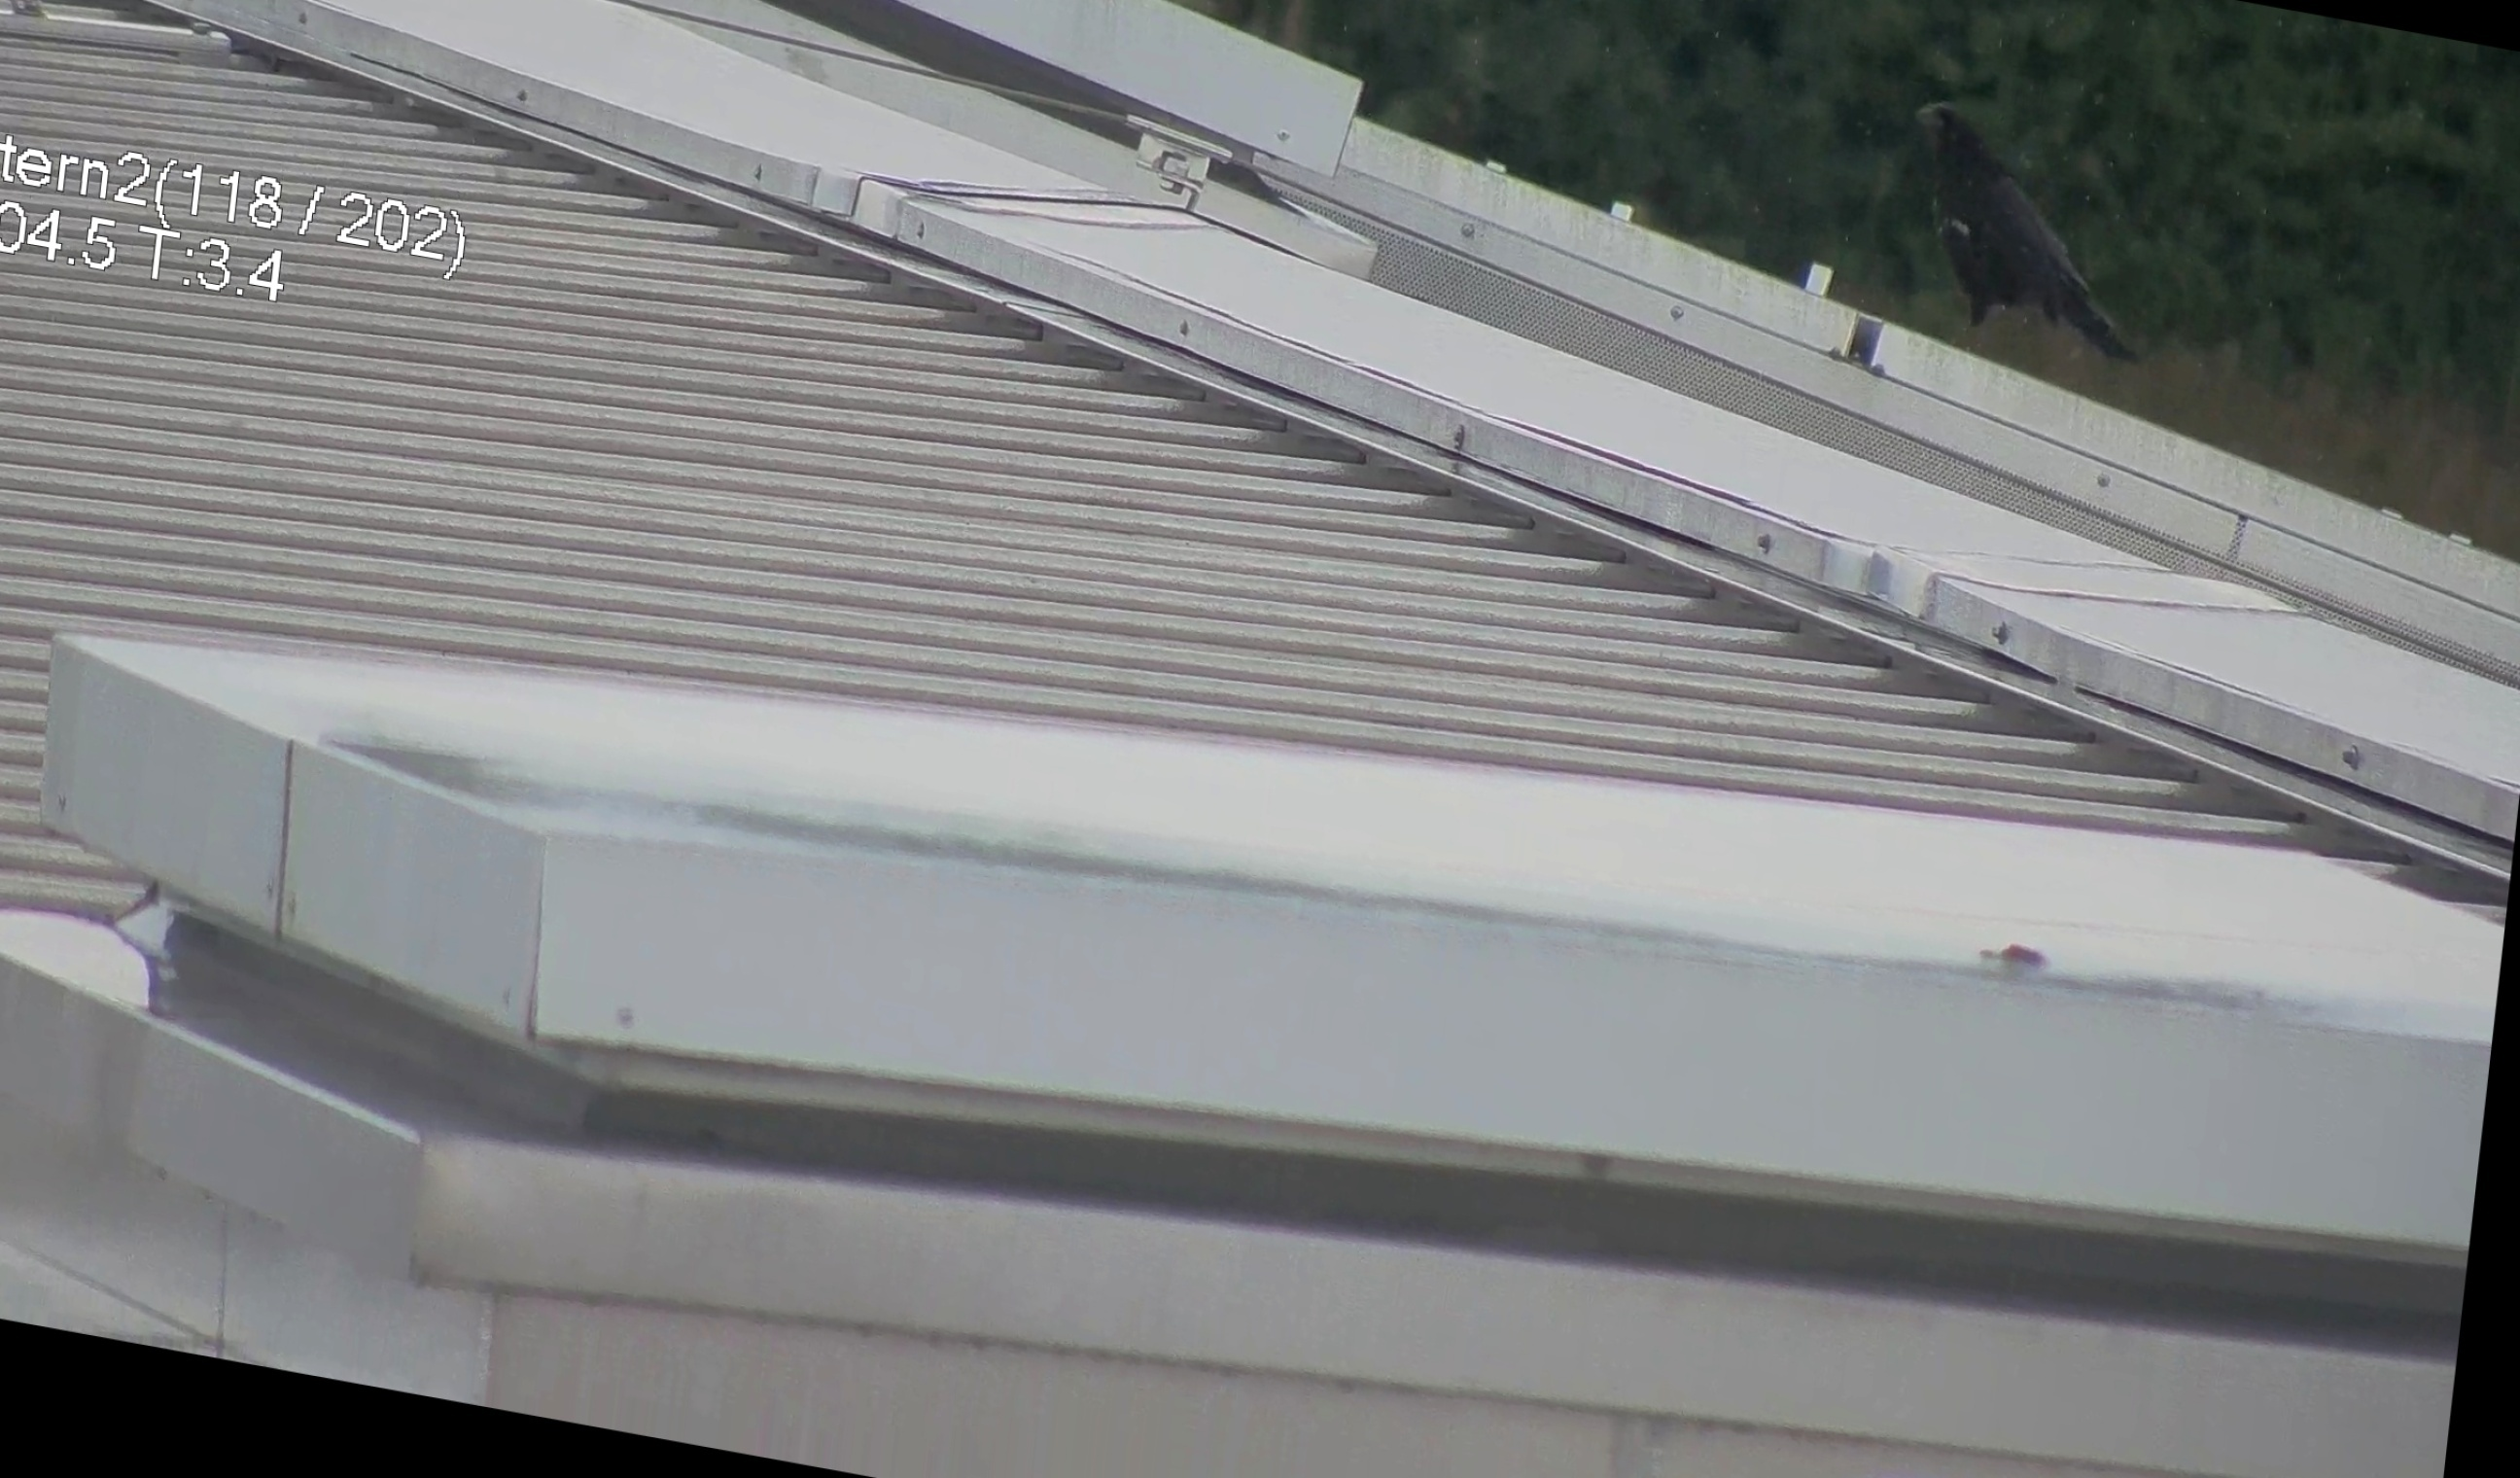Other: (1890, 88, 2175, 385)
